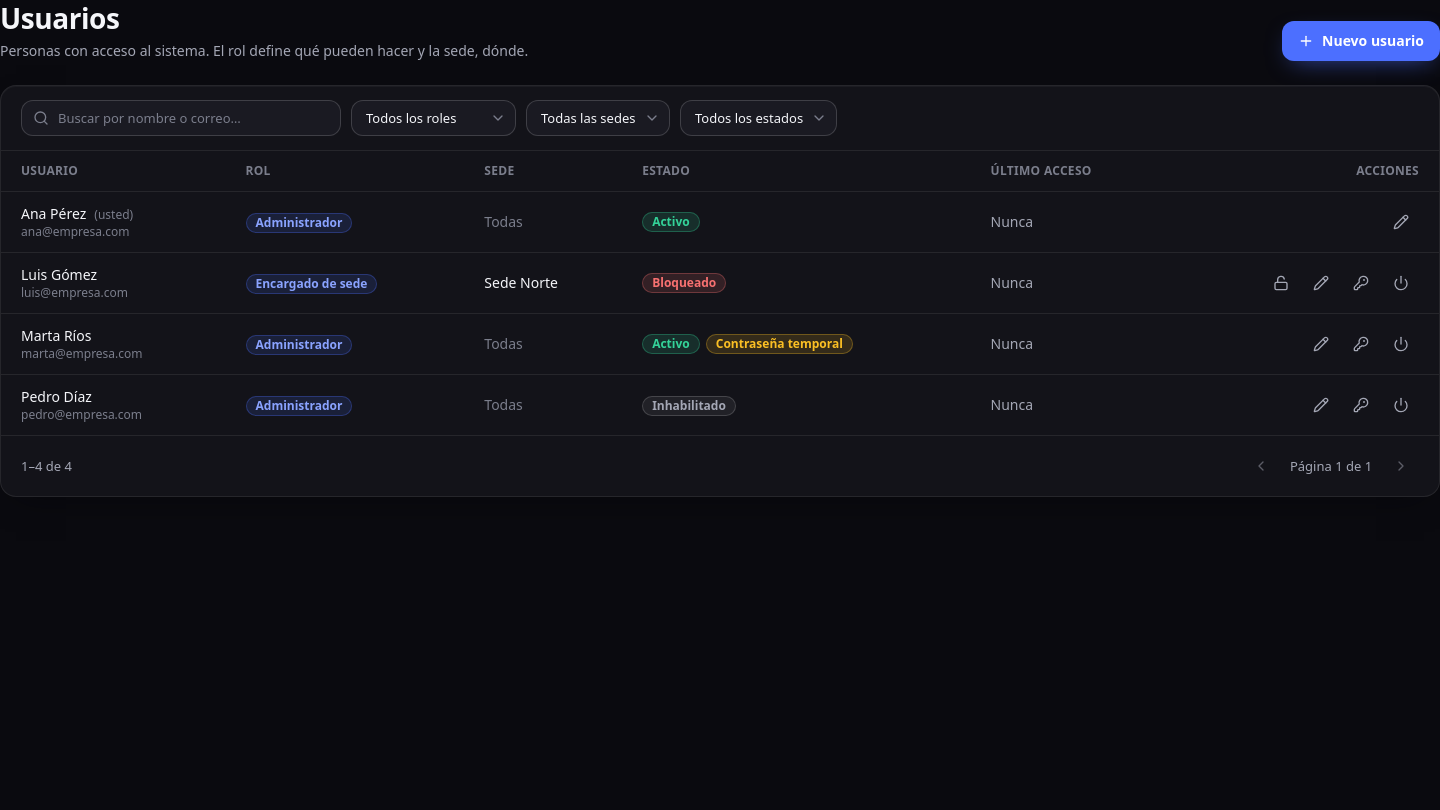
Test: <UsuariosPage> › muestra los errores que devuelve el servidor junto al campo
The width and height of the screenshot is (1440, 810).
Click the button "Nuevo usuario" at (1361, 41), box 1282,21 -> 1439,61
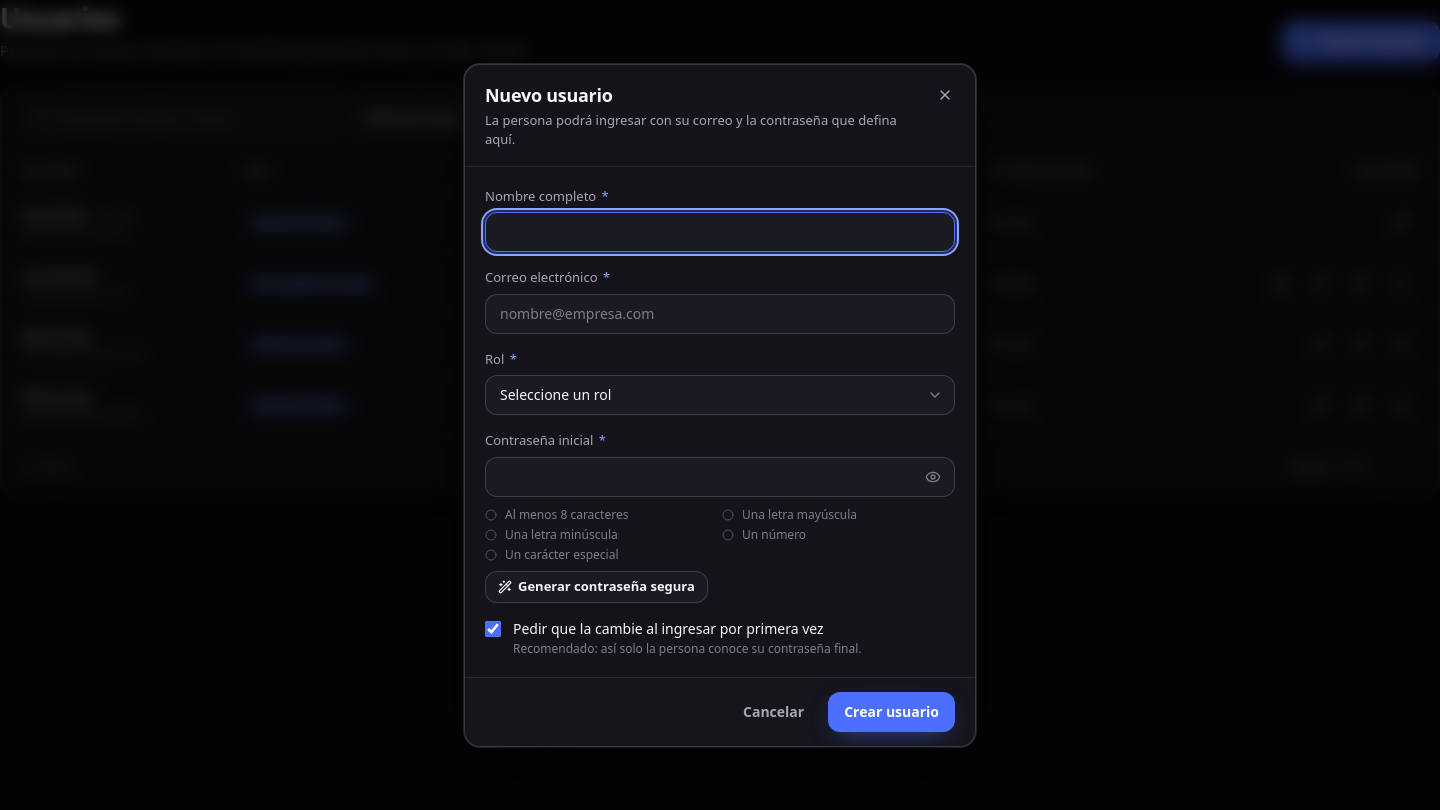
Type "Carla Mora" into the field labelled "Nombre completo *" at (720, 232), box 485,212 -> 955,252
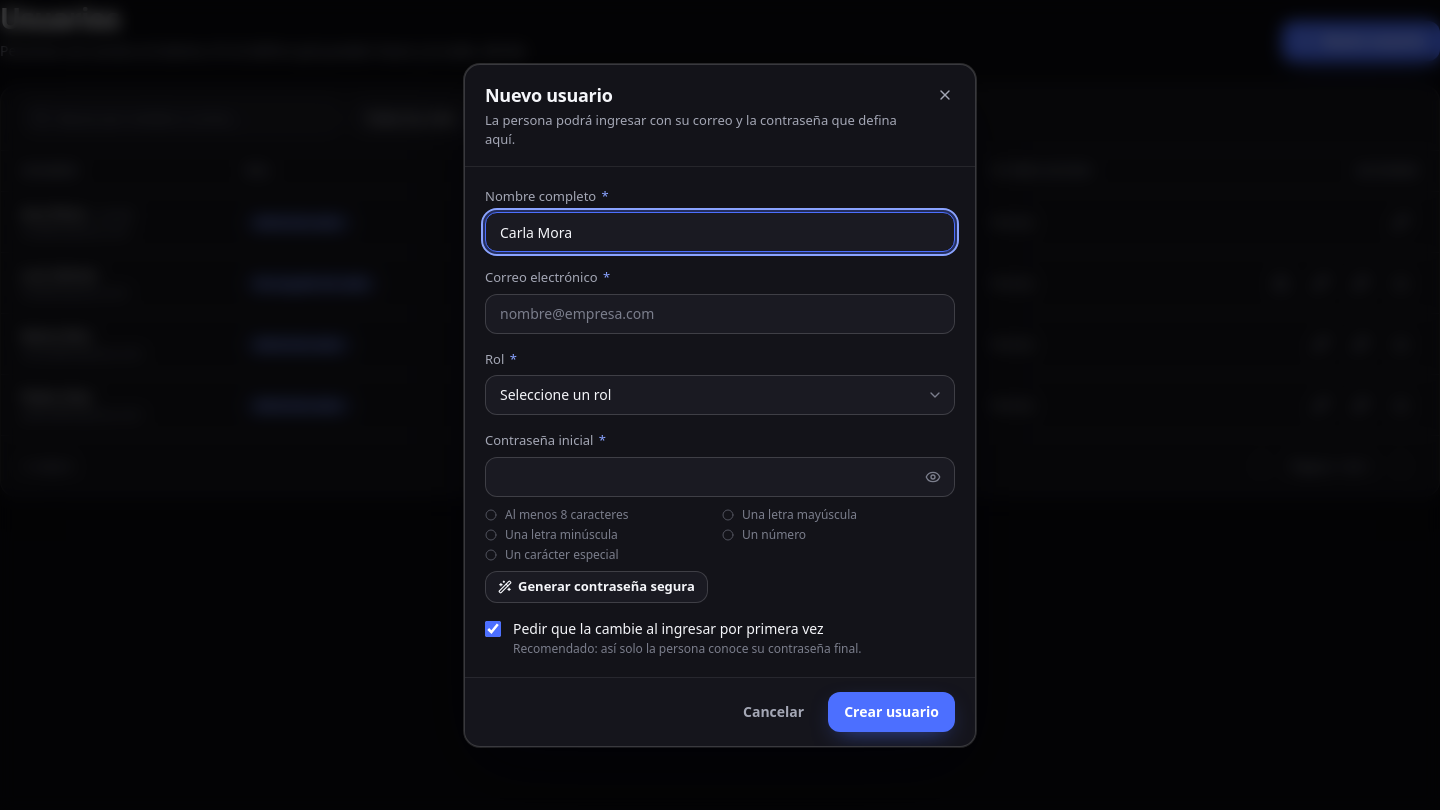
Type "ana@empresa.com" into the field labelled "Correo electrónico *" at (720, 314), box 485,294 -> 955,334
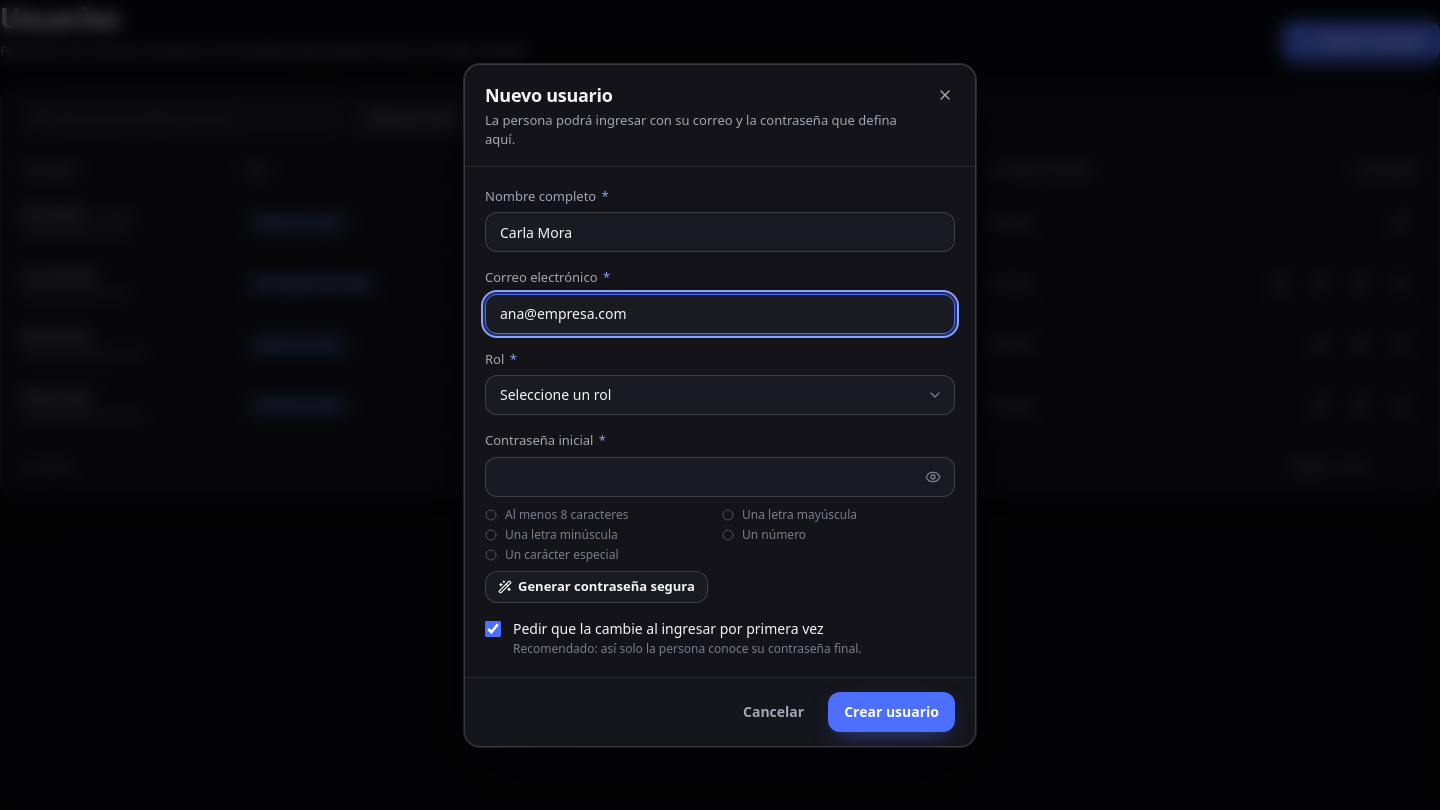
Select "Administrador" in the dropdown labelled "Rol *" at (720, 395), box 485,375 -> 955,415
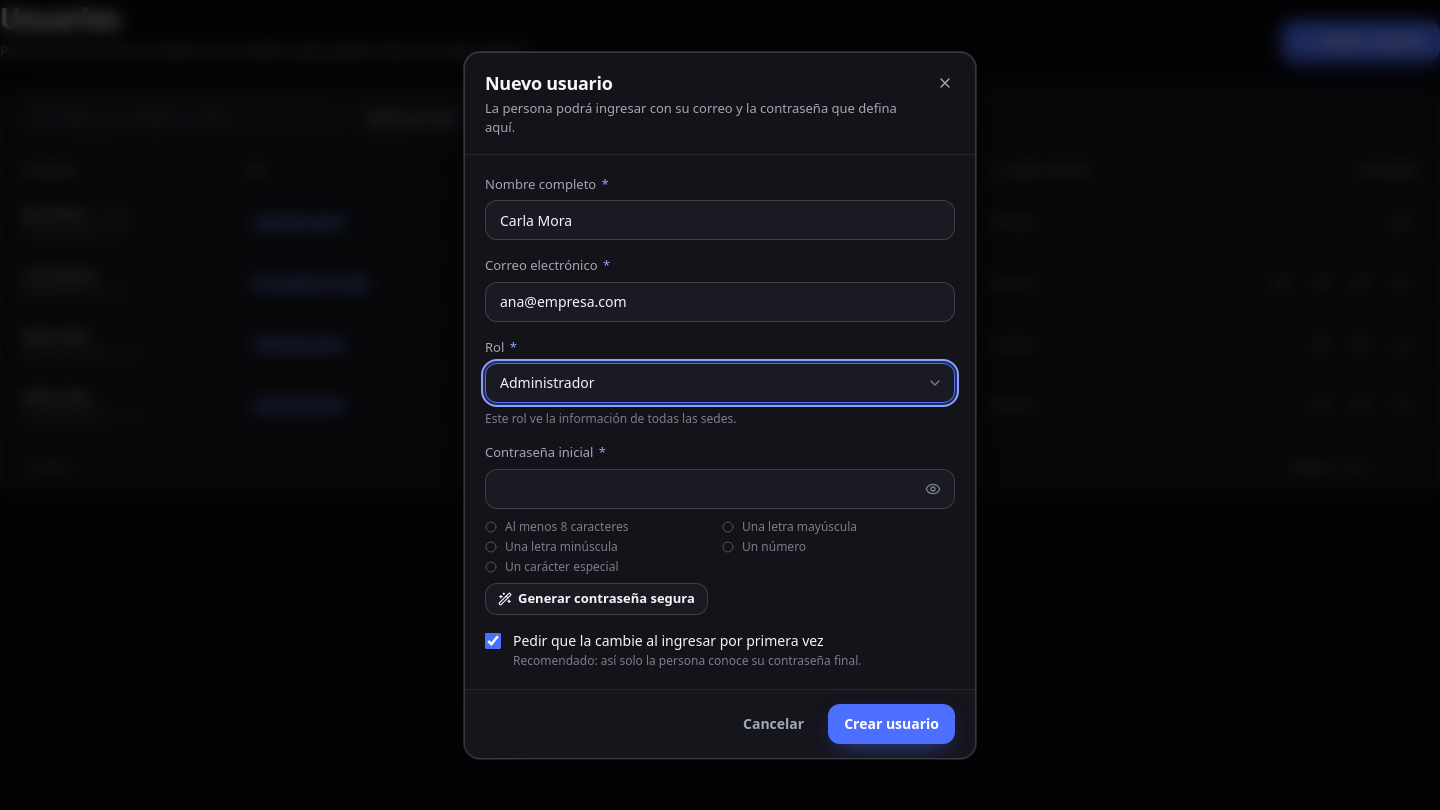
Type "Clave#Segura1" into the password field labelled "Contraseña inicial *" at (720, 488), box 485,468 -> 955,508
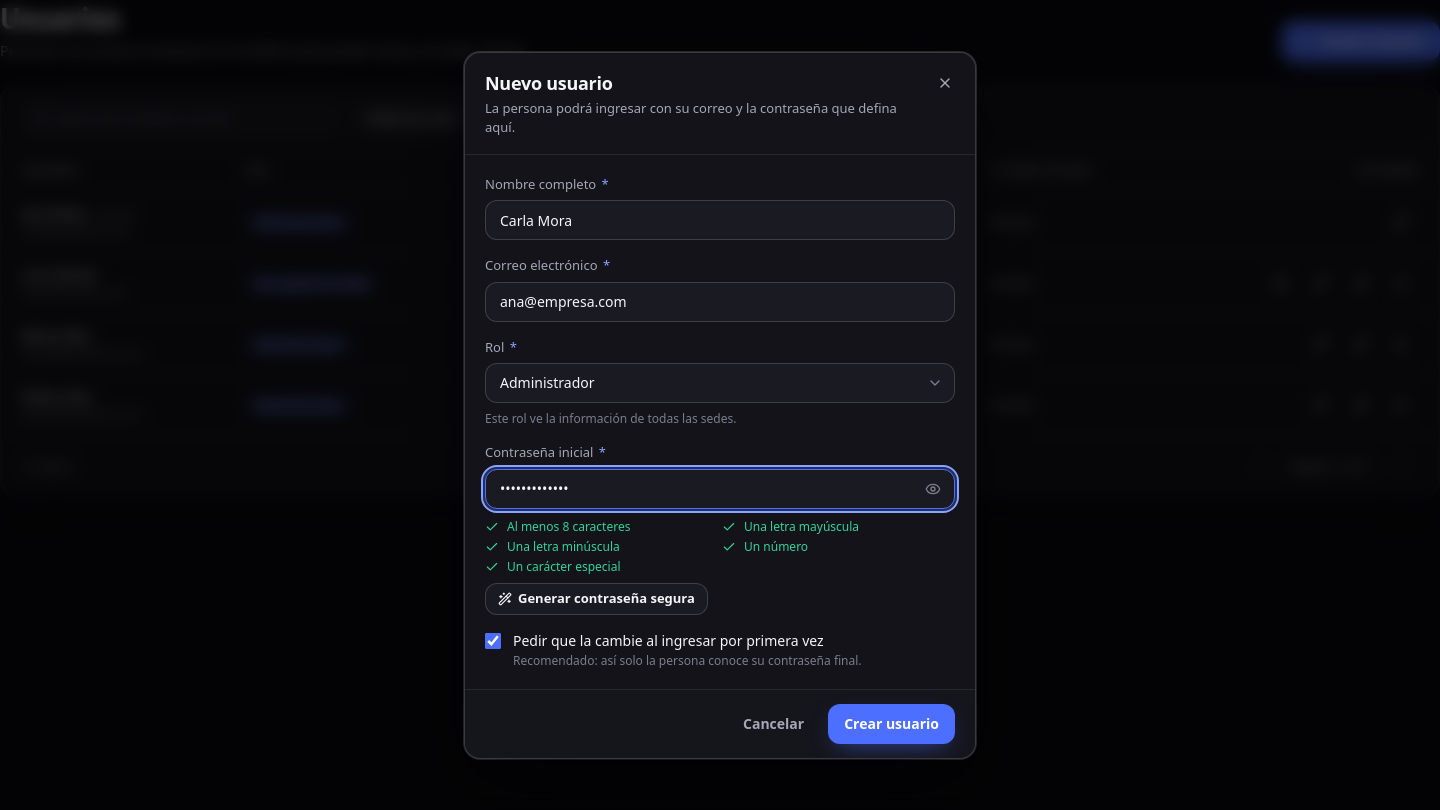
Click the button "Crear usuario" at (892, 724), box 828,704 -> 955,744
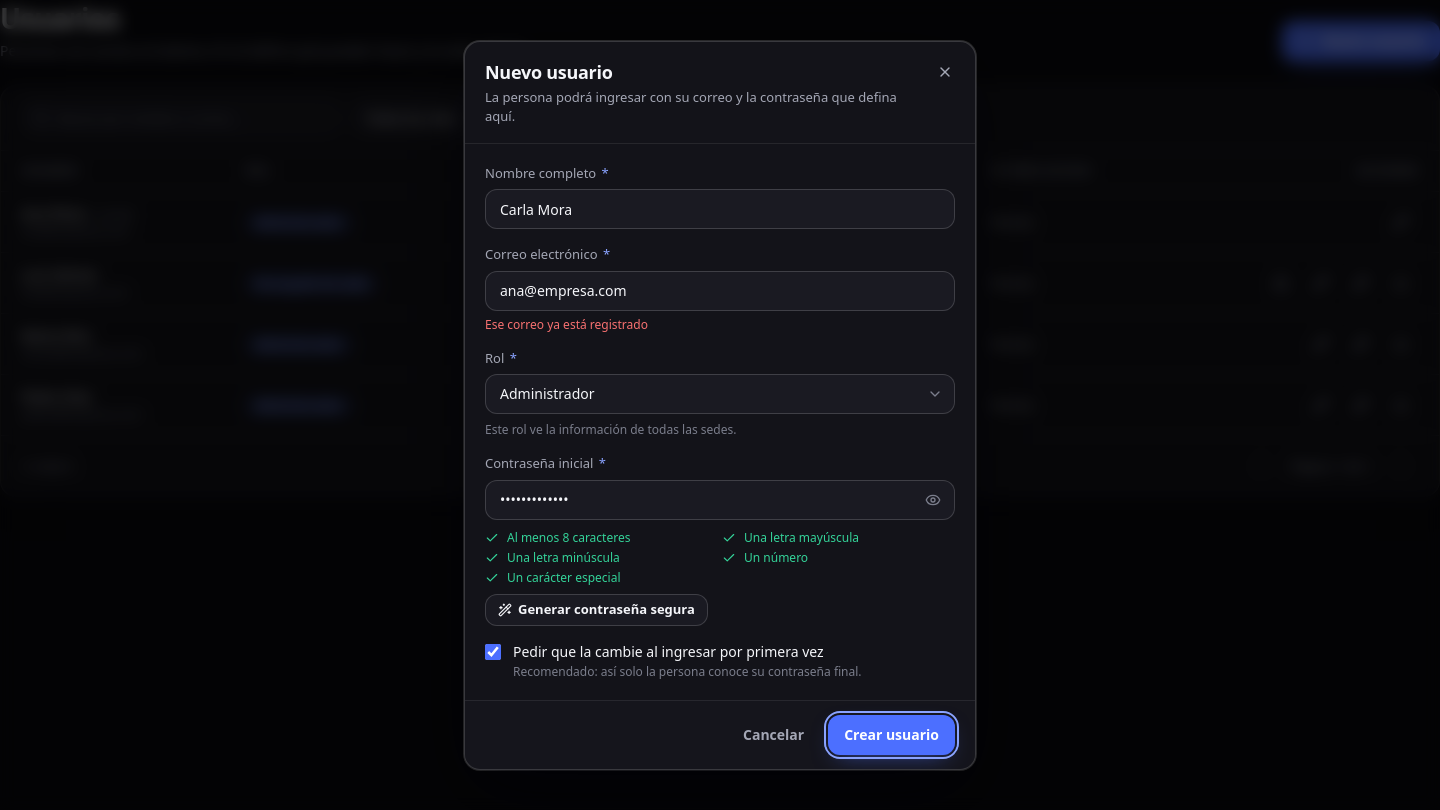
Check: the text "Ese correo ya está registrado" is shown, box 485,316 -> 648,332
